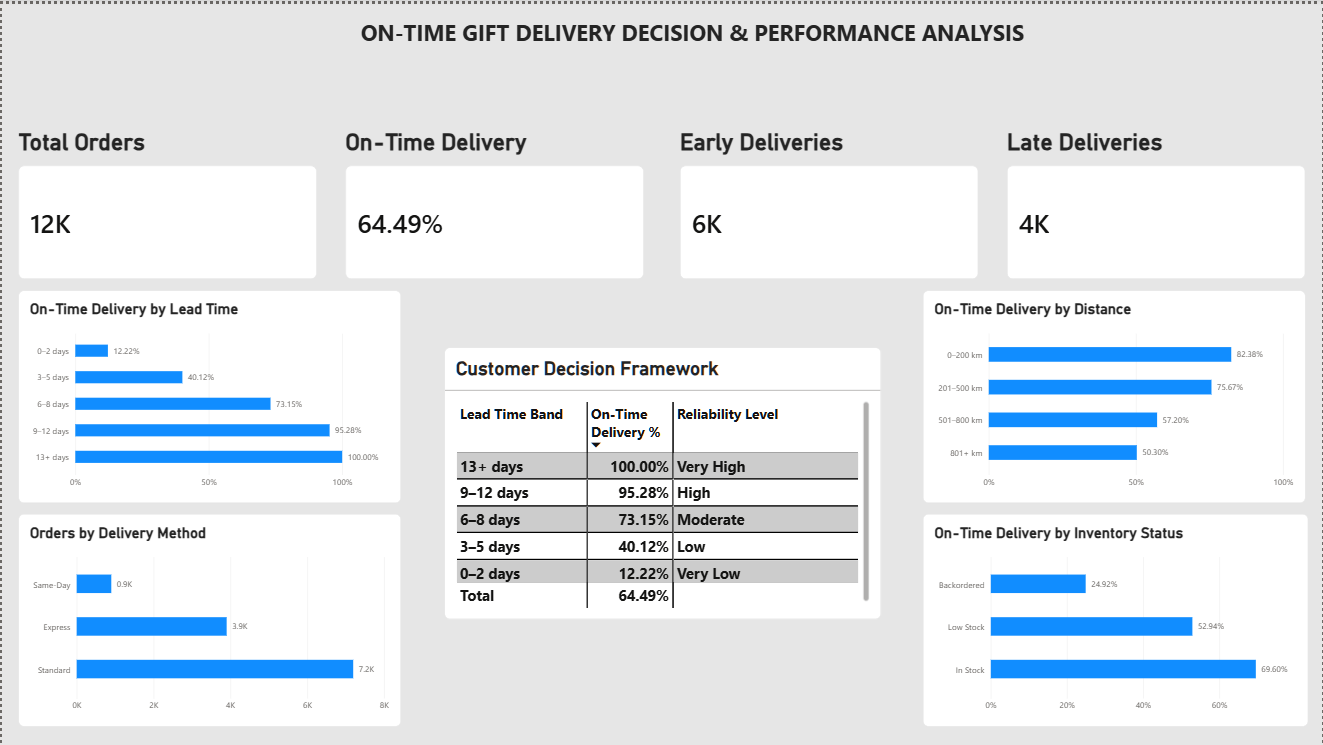

This screenshot's page, from the dashboard's own definition file:
{"tool":"powerbi","page":{"name":"ON-TIME GIFT DELIVERY DECISION & PERFORMANCE ANALYSIS","canvas":[1920,1080],"ordinal":0},"visuals":[{"type":"cardVisual","title":"Total Orders","fields":{"Data":["Count(on_time_gift_delivery_sql.order_id)"]},"box":[23.6,180.5,434,219.2],"z":0},{"type":"cardVisual","title":"On-Time Delivery","fields":{"Data":["on_time_gift_delivery_sql.On-Time Delivery %"]},"box":[500.6,180.5,434,219.2],"z":1000},{"type":"cardVisual","title":"Late Deliveries","fields":{"Data":["on_time_gift_delivery_sql.Late Orders"]},"box":[1463.2,180.5,434,219.2],"z":2000},{"type":"cardVisual","title":"Early Deliveries","fields":{"Data":["on_time_gift_delivery_sql.Early Orders"]},"box":[986.2,180.5,434,219.2],"z":3000},{"type":"clusteredBarChart","title":"On-Time Delivery by Lead Time","fields":{"Category":["on_time_gift_delivery_sql.Lead Time Band"],"Y":["on_time_gift_delivery_sql.On-Time Delivery %"]},"box":[23.6,416.8,556.5,309.4],"z":4000},{"type":"clusteredBarChart","title":"On-Time Delivery by Distance","fields":{"Category":["on_time_gift_delivery_sql.Distance Band"],"Y":["on_time_gift_delivery_sql.On-Time Delivery %"]},"box":[1340.7,416.8,556.5,309.4],"z":5000},{"type":"clusteredBarChart","title":"On-Time Delivery by Inventory Status","fields":{"Category":["on_time_gift_delivery_sql.inventory_status"],"Y":["on_time_gift_delivery_sql.On-Time Delivery %"]},"box":[1340.7,741.3,560.8,309.4],"z":6000},{"type":"clusteredBarChart","title":"Orders by Delivery Method","fields":{"Category":["on_time_gift_delivery_sql.delivery_method"],"Y":["CountNonNull(on_time_gift_delivery_sql.order_id)"]},"box":[23.6,741.3,556.5,309.4],"z":7000},{"type":"textbox","box":[90.2,19.3,1807,68.8],"z":8000},{"type":"tableEx","title":"Customer Decision Framework","fields":{"Values":["on_time_gift_delivery_sql.Lead Time Band","on_time_gift_delivery_sql.On-Time Delivery %","on_time_gift_delivery_sql.Reliability Level"]},"box":[644.1,500,635.4,395.2],"z":9000}]}

Visuals, with their boxes in screenshot pixels (x1, y1, x2, y2), scaled from the page's 1920x1080 canvas onto the 1323x745 screenshot:
"Total Orders" cardVisual: detection(16, 125, 315, 276)
"On-Time Delivery" cardVisual: detection(345, 125, 644, 276)
"Late Deliveries" cardVisual: detection(1008, 125, 1307, 276)
"Early Deliveries" cardVisual: detection(680, 125, 979, 276)
"On-Time Delivery by Lead Time" clusteredBarChart: detection(16, 288, 400, 501)
"On-Time Delivery by Distance" clusteredBarChart: detection(924, 288, 1307, 501)
"On-Time Delivery by Inventory Status" clusteredBarChart: detection(924, 511, 1310, 725)
"Orders by Delivery Method" clusteredBarChart: detection(16, 511, 400, 725)
textbox: detection(62, 13, 1307, 61)
"Customer Decision Framework" tableEx: detection(444, 345, 882, 618)
